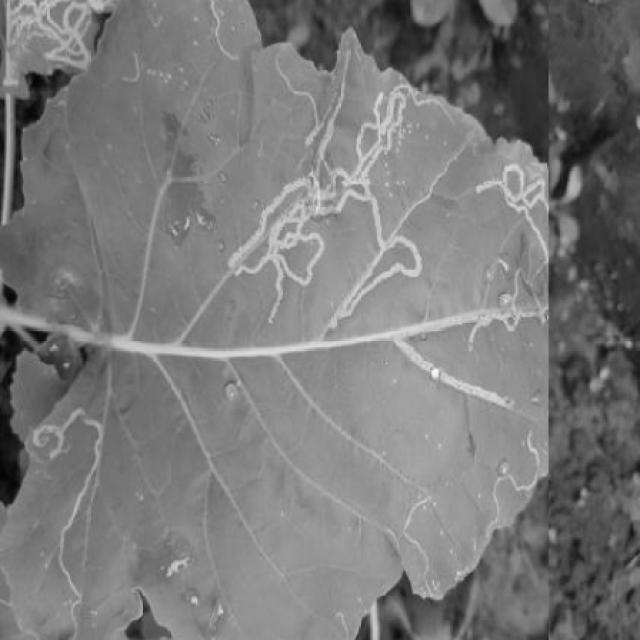Leaf Miner: (0, 0, 549, 640)
